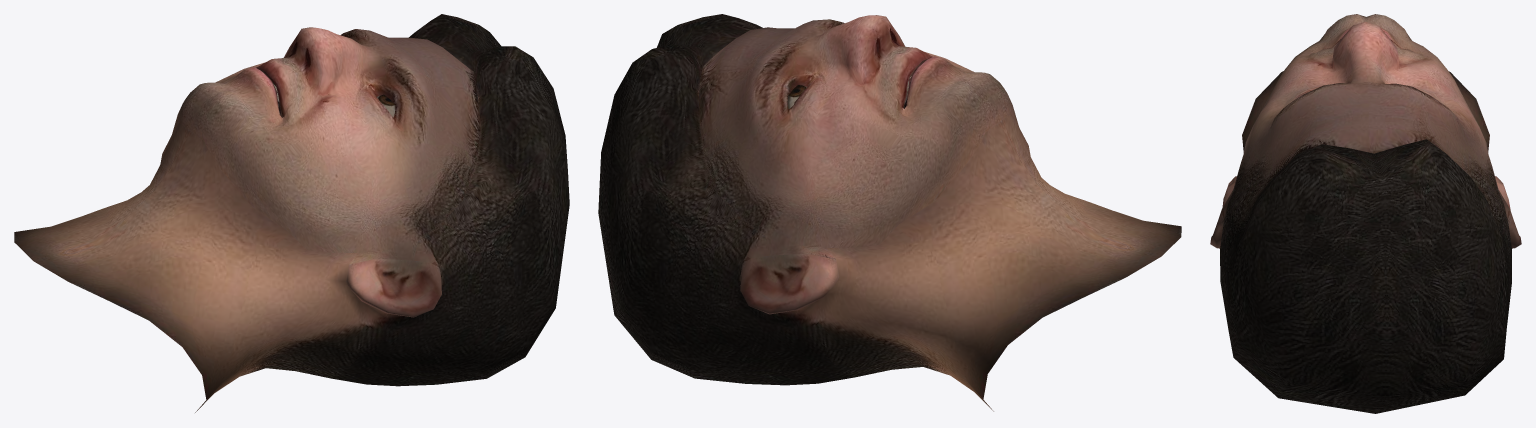
Rendered from head_us_ranger_braeburn.glb.
3 renders of one model, left to right at view 1: azimuth 30°, elevation 25°; view 2: azimuth 150°, elevation 25°; view 3: azimuth 270°, elevation 25°, orthographic. The views are drawn at different scales.
Size of the model in its own units: 13.82 by 9.45 by 8.06.
Materials: 1 (1 with a texture image).
